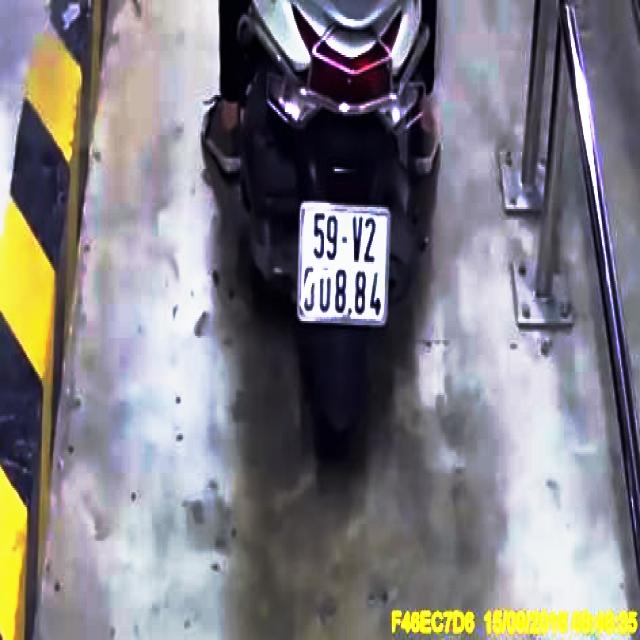license_plate: (297, 205, 391, 323)
